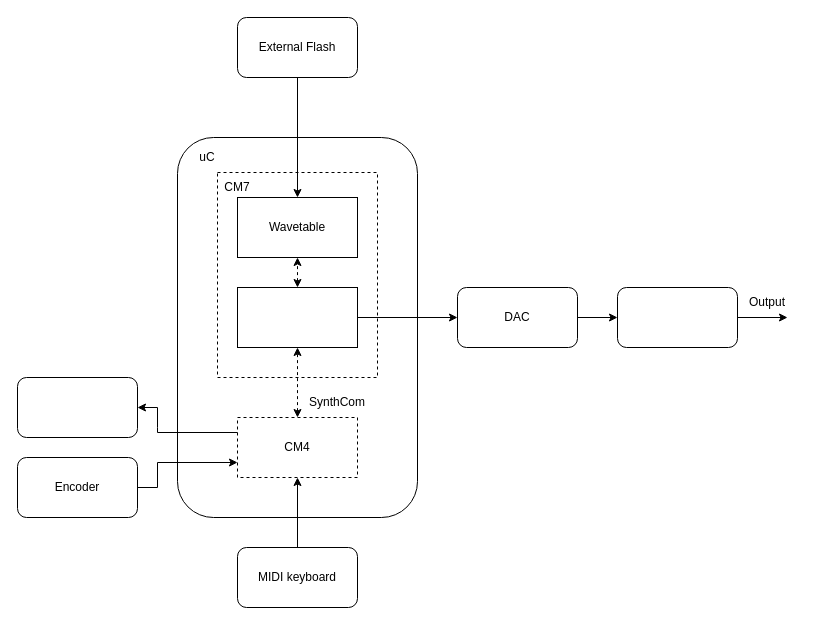
Image size: 815x625. Some labels were removed from this diagram. Each missing label, with the centre of its shape:
"OLED" belongs at [77,407].
"Smooth filter" belongs at [677,317].
"Synth" belongs at [297,317].
